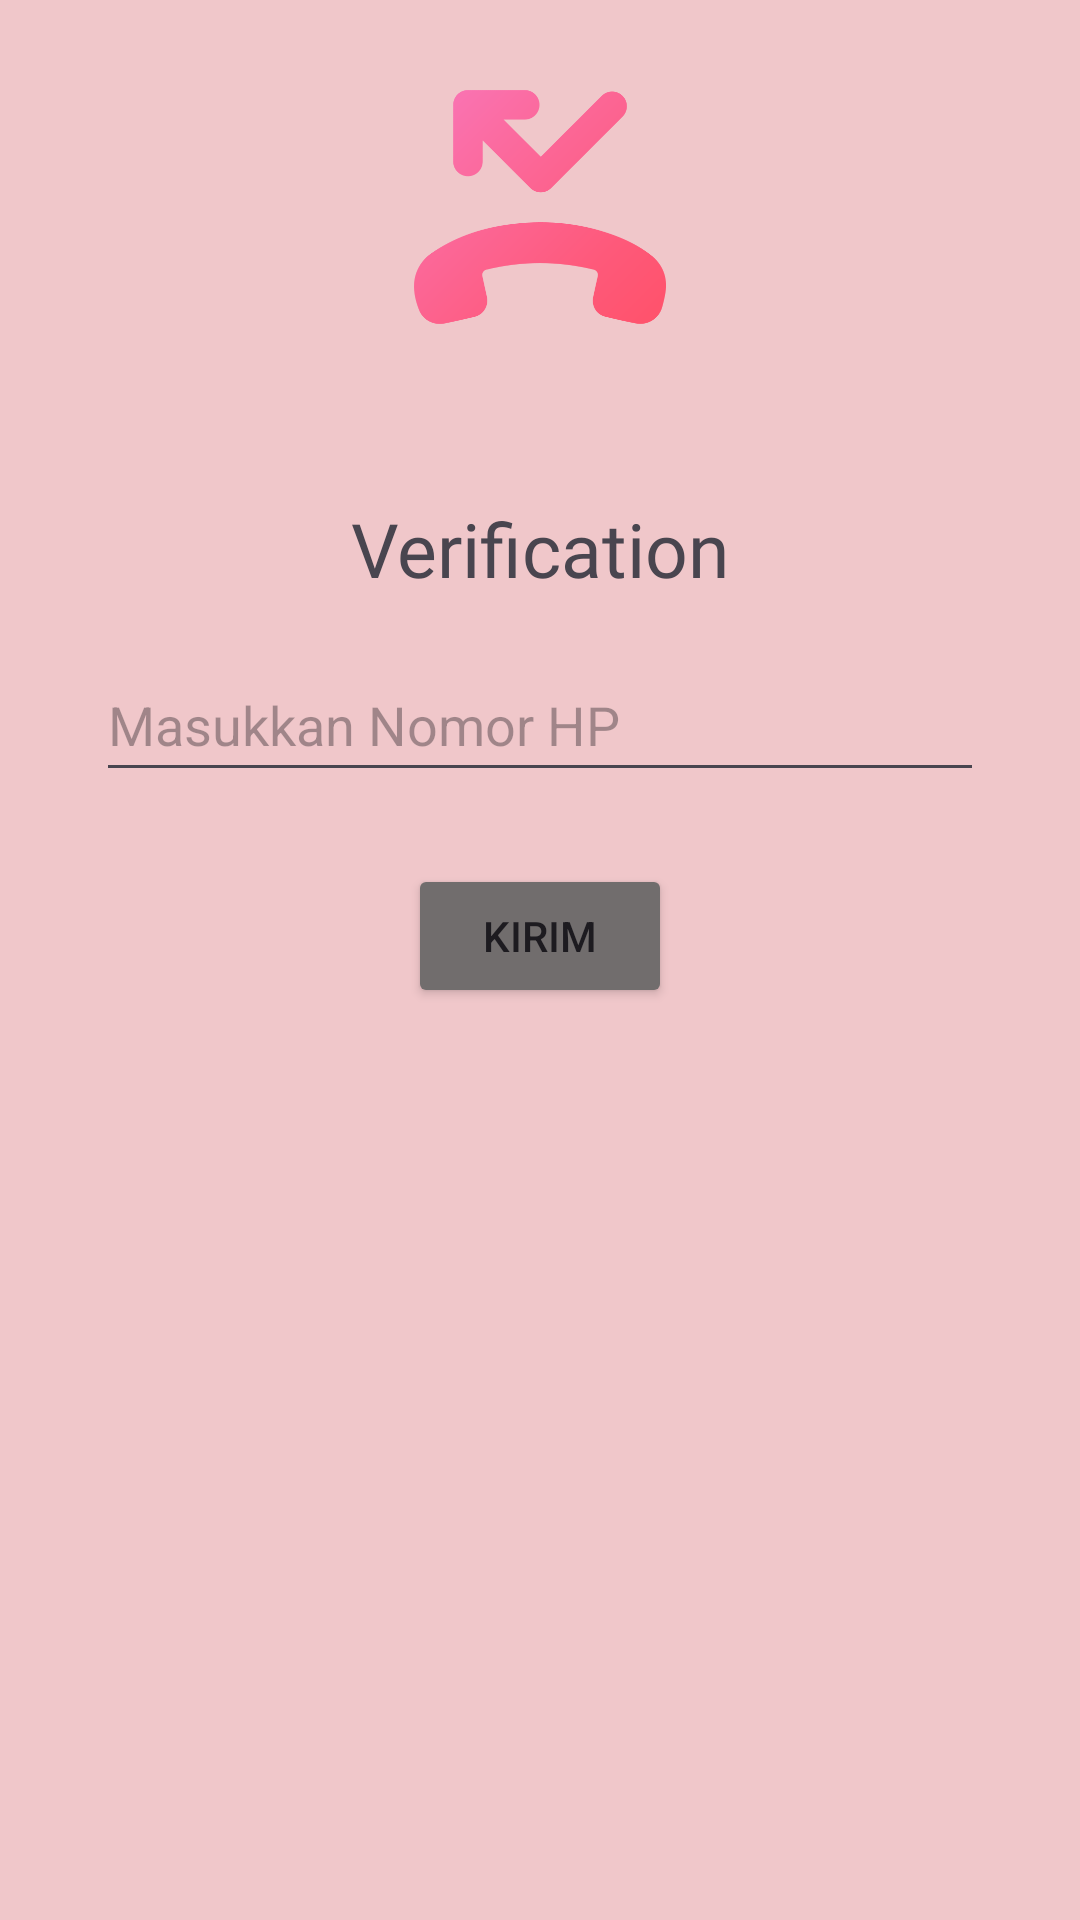

Screen size 1080x1920. Icon name, then its box in pixels as (x1, y1, x2, y2):
phone: (414, 90, 666, 324)
